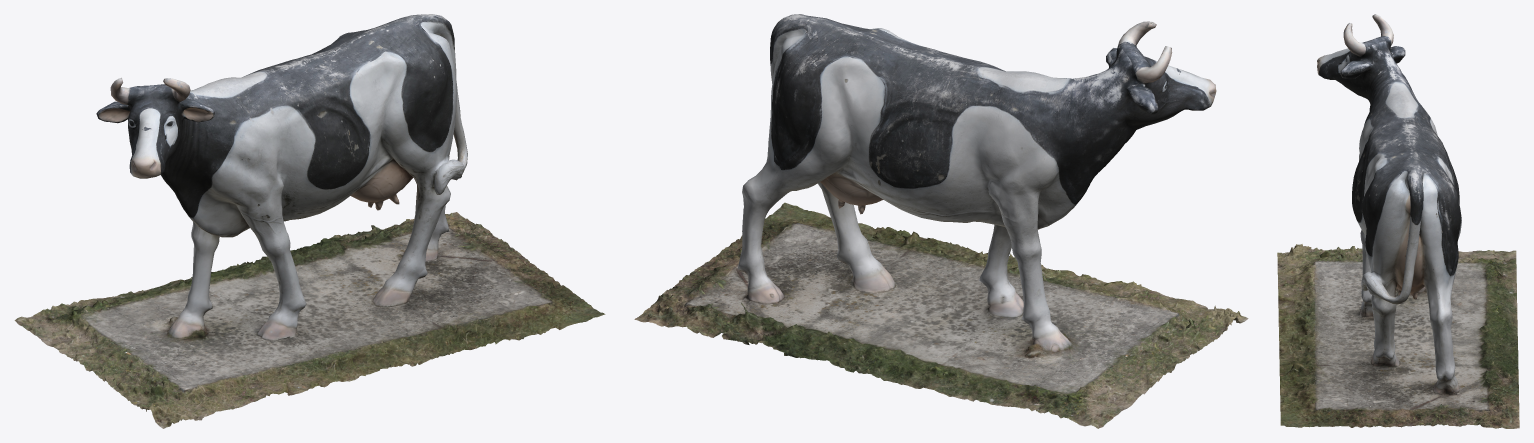
The model's file is cow.glb.
3 views of the same model, side by side, from view 1: azimuth 30°, elevation 25°; view 2: azimuth 150°, elevation 25°; view 3: azimuth 270°, elevation 25° (orthographic). The views are drawn at different scales.
Visible parts, largest first — view 1: plastova_krava; view 2: plastova_krava; view 3: plastova_krava.
Boxes of the visible parts, bbox=[...] form: plastova_krava: bbox=[14, 14, 605, 428]; plastova_krava: bbox=[634, 14, 1248, 428]; plastova_krava: bbox=[1277, 14, 1519, 428].
Size of the model in its own units: 2.54 by 1.67 by 1.47.
1 material, 1 textured.
